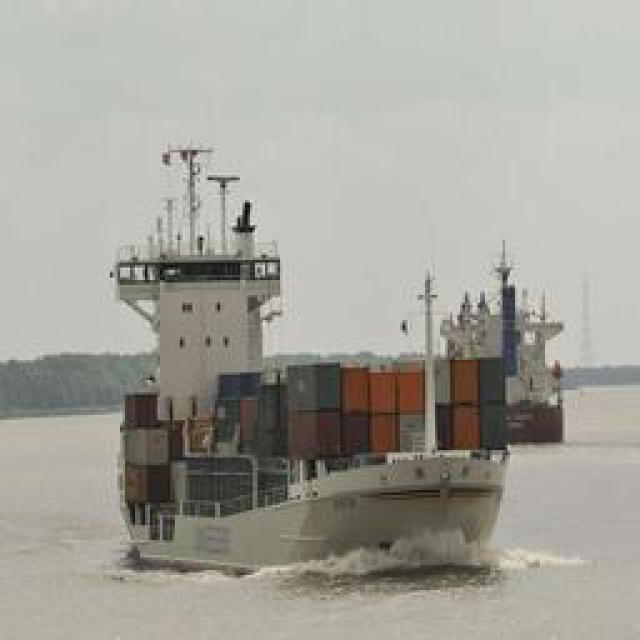Ship: (112, 260, 525, 568), (444, 218, 571, 447)
